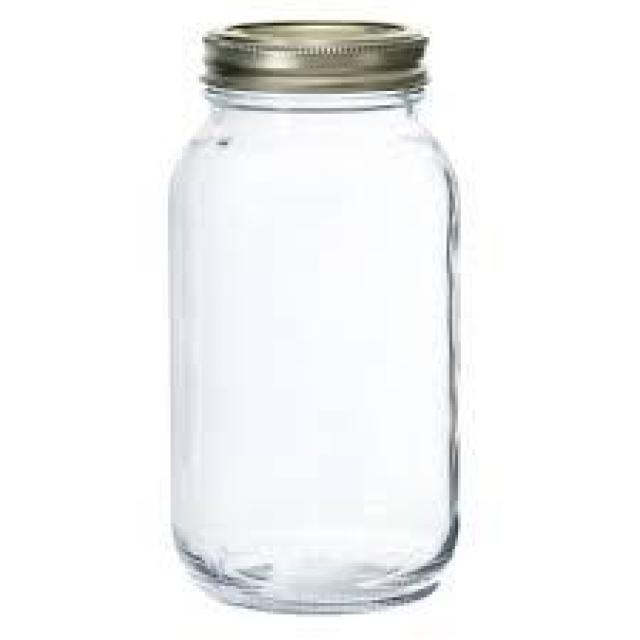non-organic waste: (161, 11, 465, 620)
